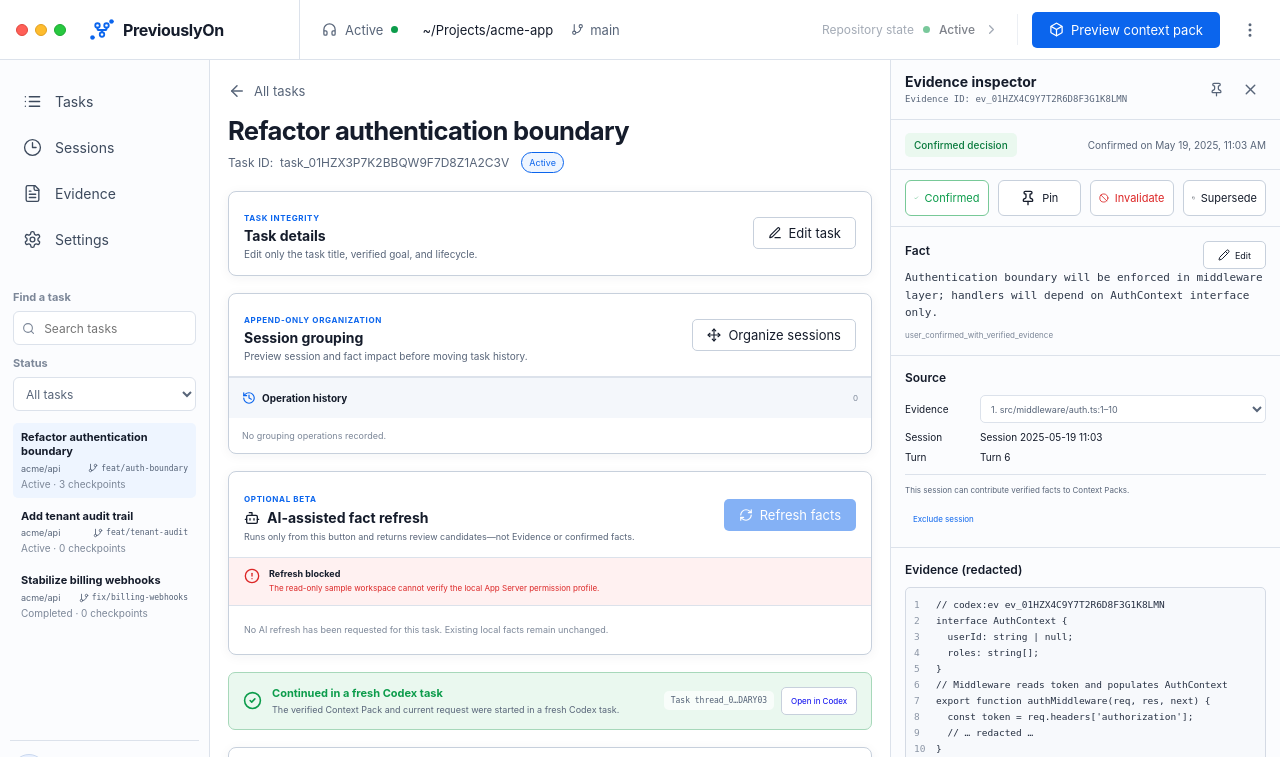
PreviouslyOn review workspace › renders the explicit relationship graph with a keyboard-accessible semantic table fallback
Check: the button "All tasks" is shown, box [228, 80, 305, 102]
Click the button "Tasks": x=104, y=101 [10, 80, 199, 122]
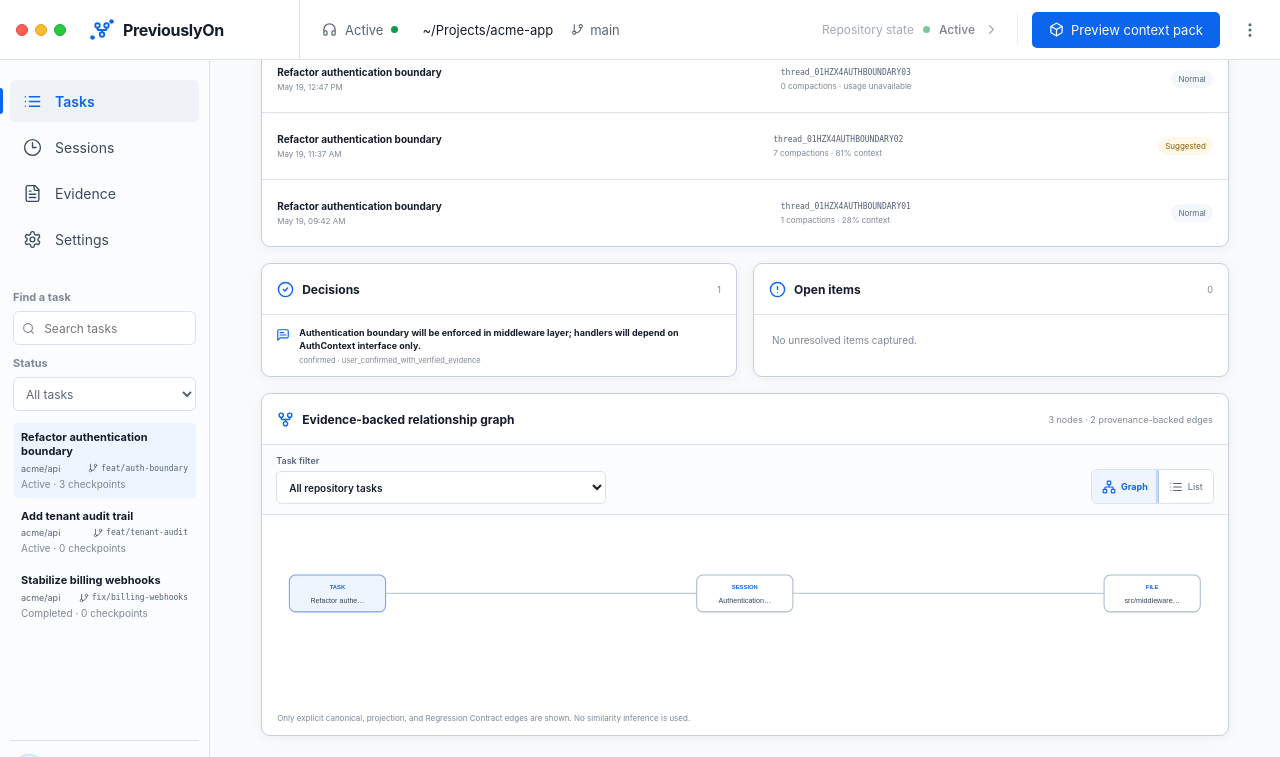
Check: the picture named "Relationship graph with 3 nodes and 2 edges" is shown, box [274, 527, 1216, 707]
Press Enter
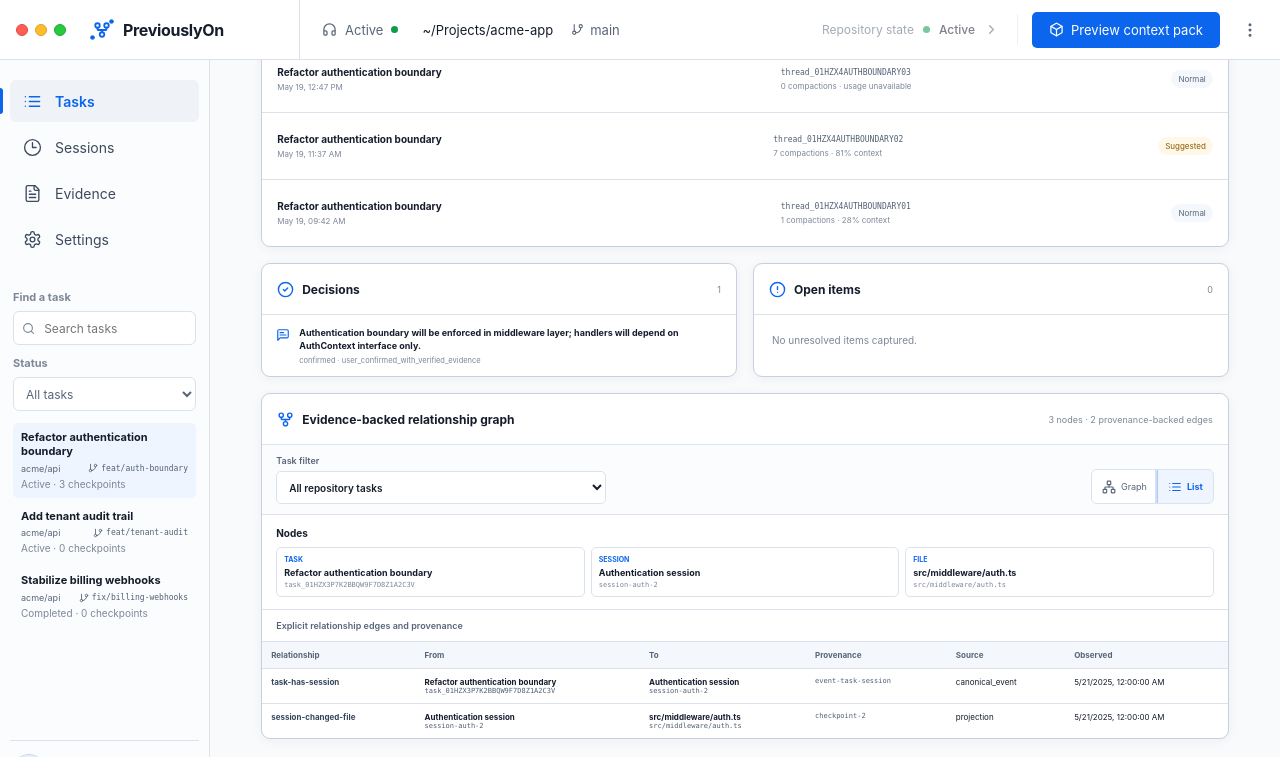
Check: the column heading "task-has-session" is shown, box [262, 669, 416, 704]
Check: the text "canonical_event" is shown, box [947, 669, 1065, 704]
Check: the text "event-task-session" is shown, box [815, 677, 891, 685]
